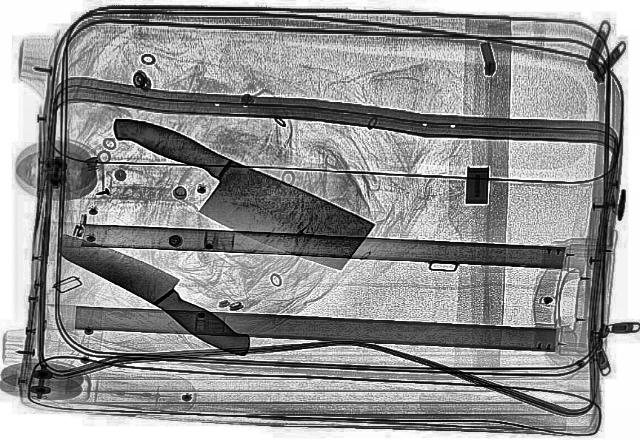Knife: (73, 100, 393, 282), (41, 218, 277, 362)
